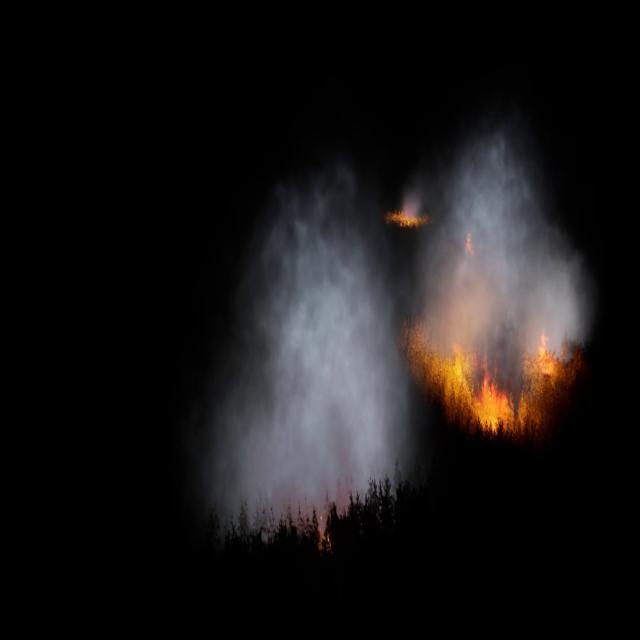fire: (404, 320, 591, 433), (388, 205, 428, 227), (463, 227, 475, 256)
smoke: (203, 156, 414, 538), (413, 120, 597, 373)
